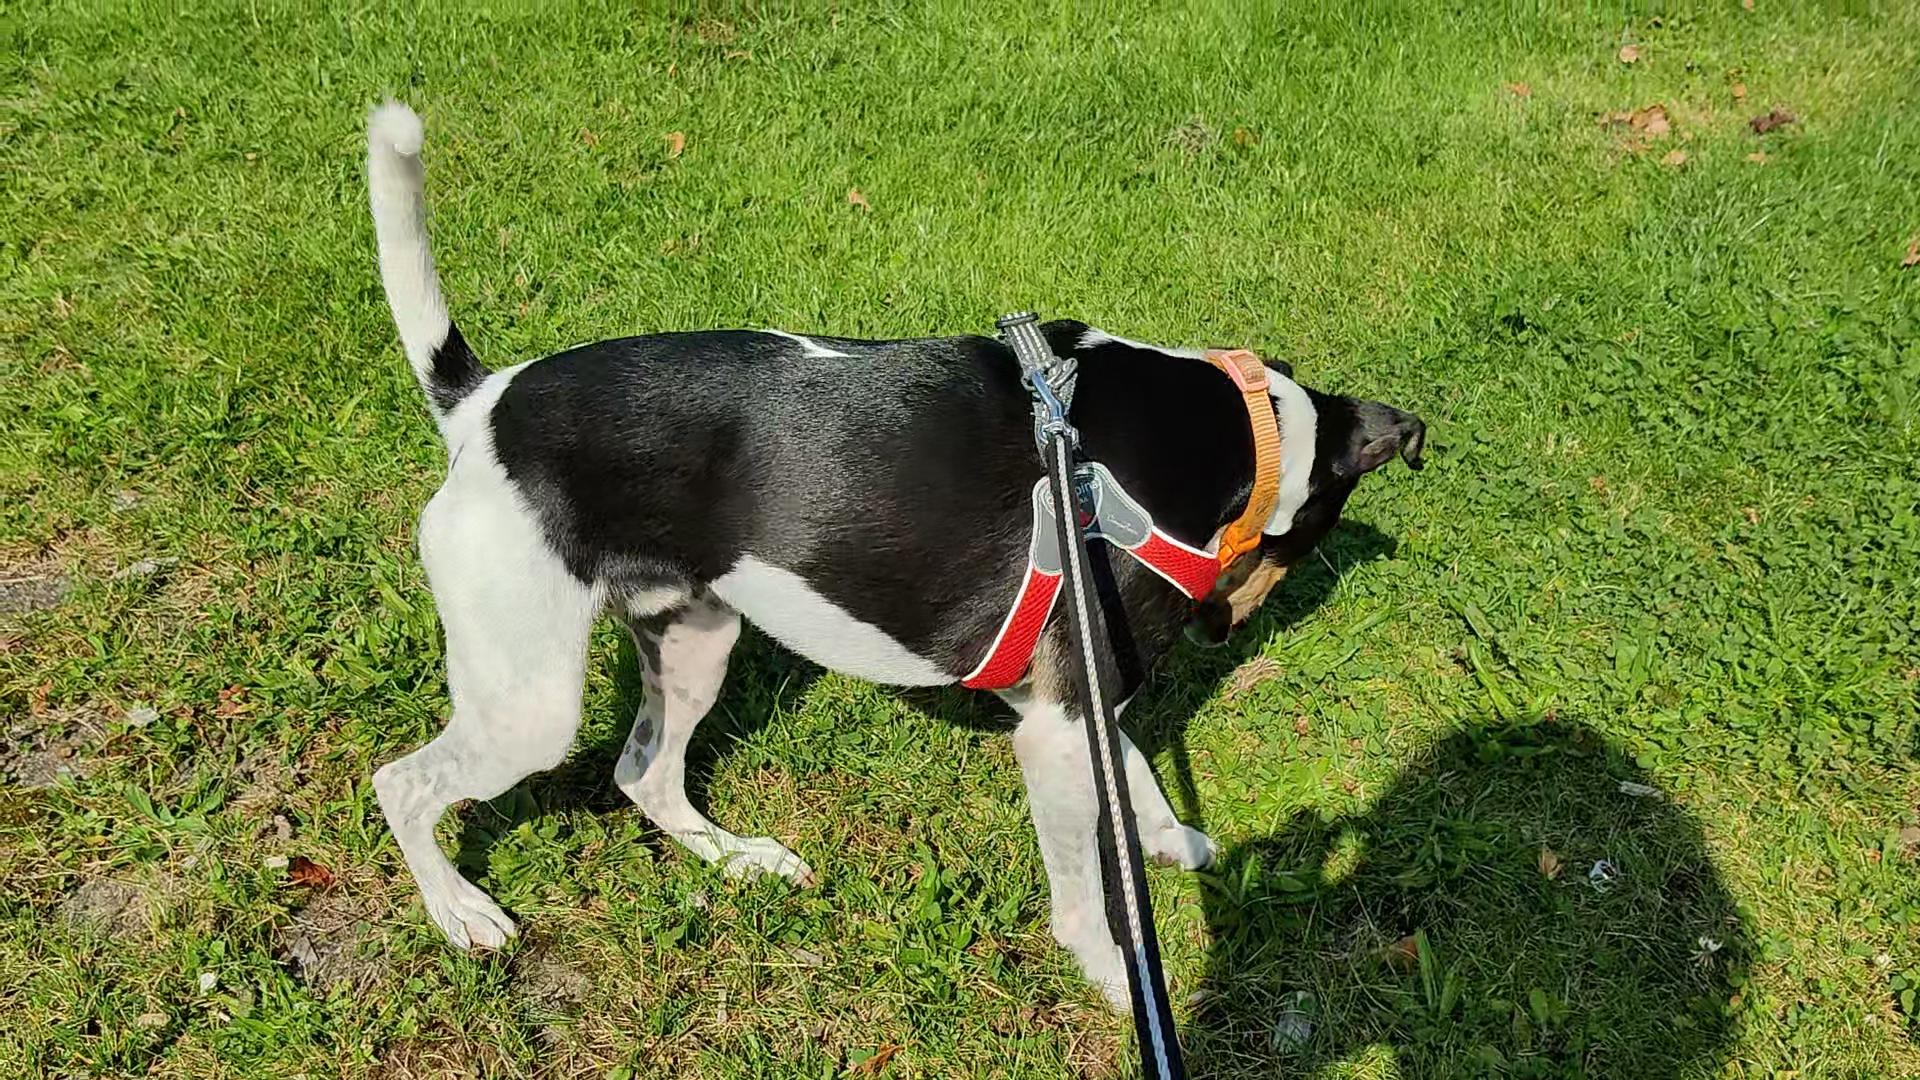Dog: (295, 84, 1466, 1046)
